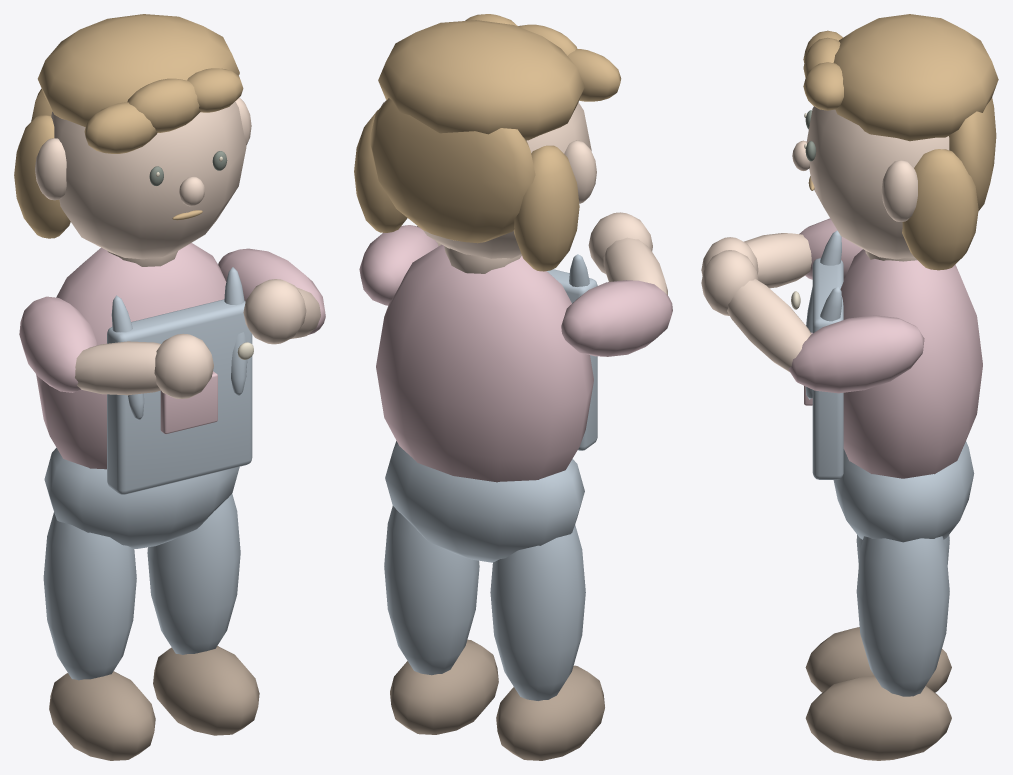
File: pearl-work.glb
The picture shows the model from 3 angles, left to right: view 1: azimuth 30°, elevation 25°; view 2: azimuth 150°, elevation 25°; view 3: azimuth 270°, elevation 25°; orthographic projection. The views are drawn at different scales.
Visible parts, largest first — view 1: Head.020, Overall bib.011, Padded shirt.020, Hair crown.020, Trouser leg.040, Soft trouser seat.020, Trouser leg.041, Rounded boot.040, Rounded boot.041, Shirt sleeve.040, Forearm.040, Rounded bob.010 (+12 smaller); view 2: Padded shirt.020, Hair crown.020, Hair back.020, Soft trouser seat.020, Trouser leg.040, Trouser leg.041, Rounded boot.041, Rounded boot.040, Shirt sleeve.040, Rounded bob.010, Shirt sleeve.041, Head.020 (+8 smaller); view 3: Padded shirt.020, Hair crown.020, Trouser leg.041, Head.020, Rounded boot.041, Soft trouser seat.020, Shirt sleeve.041, Rounded bob.011, Overall bib.011, Forearm.041, Rounded boot.040, Hair back.020 (+9 smaller).
Boxes of the visible parts, x1,y1,x2,y2 form: Head.020: (51, 101, 246, 259); Overall bib.011: (107, 299, 252, 494); Padded shirt.020: (36, 243, 226, 469); Hair crown.020: (37, 14, 239, 126); Trouser leg.040: (43, 512, 136, 680); Soft trouser seat.020: (44, 448, 239, 548); Trouser leg.041: (147, 493, 240, 654); Rounded boot.040: (49, 671, 155, 760); Rounded boot.041: (153, 646, 259, 735); Shirt sleeve.040: (19, 296, 97, 392); Forearm.040: (75, 341, 160, 395); Rounded bob.010: (14, 115, 70, 238); Padded shirt.020: (376, 244, 593, 482); Hair crown.020: (378, 20, 584, 140); Hair back.020: (370, 98, 535, 243); Soft trouser seat.020: (385, 441, 584, 562); Trouser leg.040: (490, 524, 585, 700); Trouser leg.041: (384, 506, 479, 675); Rounded boot.041: (390, 639, 498, 734); Rounded boot.040: (496, 665, 604, 760); Shirt sleeve.040: (561, 280, 672, 356); Rounded bob.010: (513, 145, 579, 271); Shirt sleeve.041: (359, 225, 438, 305); Head.020: (423, 102, 591, 258); Padded shirt.020: (840, 249, 982, 478); Hair crown.020: (833, 14, 998, 141); Trouser leg.041: (856, 536, 949, 696); Head.020: (806, 106, 949, 259); Rounded boot.041: (805, 675, 951, 760); Soft trouser seat.020: (833, 441, 974, 542); Shirt sleeve.041: (788, 315, 924, 393); Rounded bob.011: (902, 149, 978, 270); Overall bib.011: (812, 258, 843, 479); Forearm.041: (727, 279, 811, 371); Rounded boot.040: (805, 627, 951, 692); Hair back.020: (949, 97, 996, 211).
Bounding box in the file's own units: 0.5235 × 1.25 × 0.4824.
